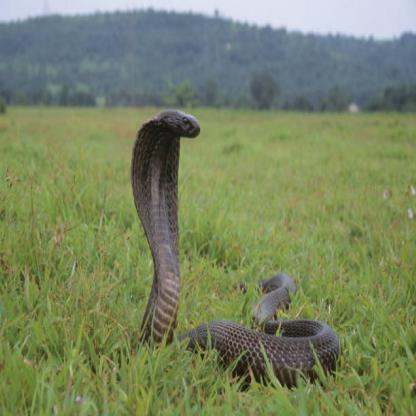Snake: (114, 106, 340, 381)
